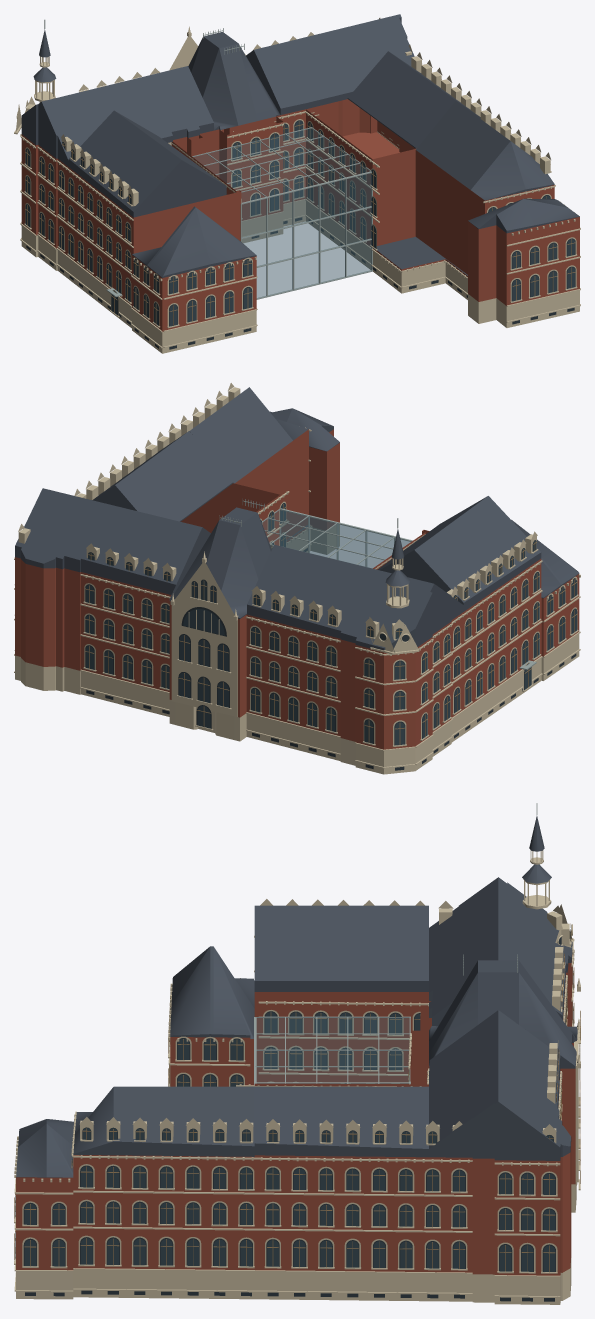
The model's file is conservatorium.glb.
3 renders of one model, top to bottom at view 1: azimuth 30°, elevation 25°; view 2: azimuth 150°, elevation 25°; view 3: azimuth 270°, elevation 25°, orthographic. The views are drawn at different scales.
Parts seen in each view (by area): view 1: conservatorium; view 2: conservatorium; view 3: conservatorium.
Boxes of the visible parts, x1,y1,x2,y2 form: conservatorium: (14,14,580,353); conservatorium: (14,383,580,774); conservatorium: (14,803,580,1304).
Size of the model in its own units: 67.17 by 38.8 by 69.25.
